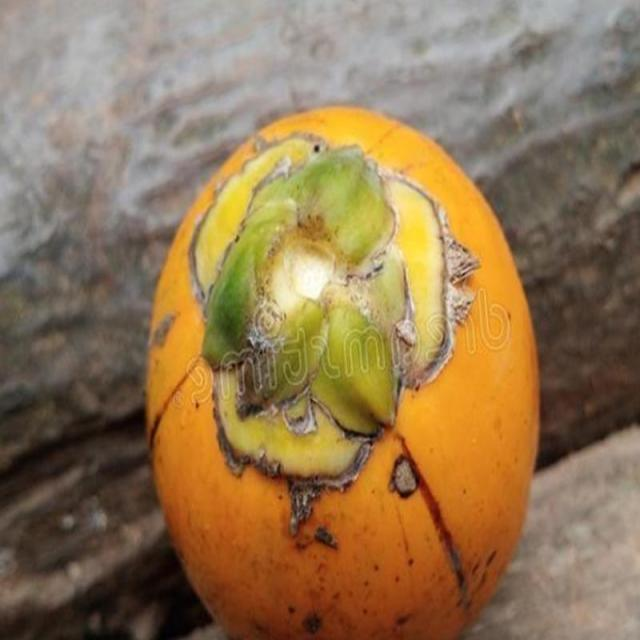good: (146, 106, 542, 639)
